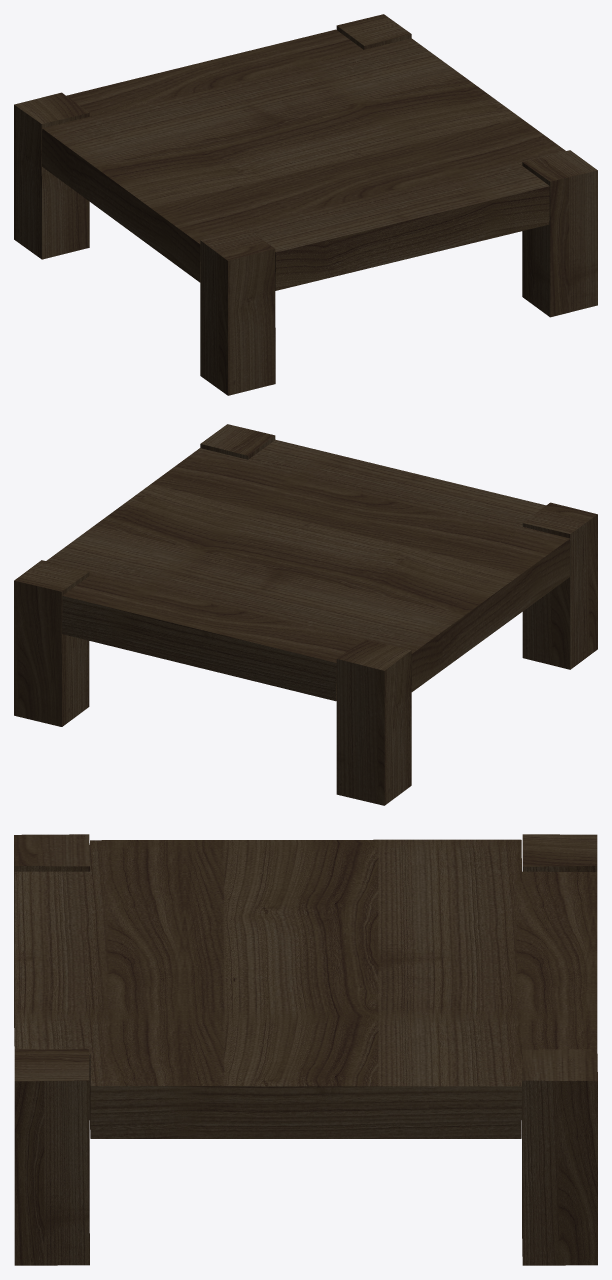
File: Table 2.FBX
3 renders of one model, top to bottom at view 1: azimuth 30°, elevation 25°; view 2: azimuth 150°, elevation 25°; view 3: azimuth 270°, elevation 25°, orthographic. The views are drawn at different scales.
Visible parts, largest first — view 1: Table 2; view 2: Table 2; view 3: Table 2.
Part boxes in pixels (bbox=[...]): Table 2: bbox=[14, 14, 597, 395]; Table 2: bbox=[14, 424, 597, 805]; Table 2: bbox=[14, 834, 597, 1265].
Bounding box in the file's own units: 100 × 100 × 35.
Materials: 1 (1 with a texture image).
